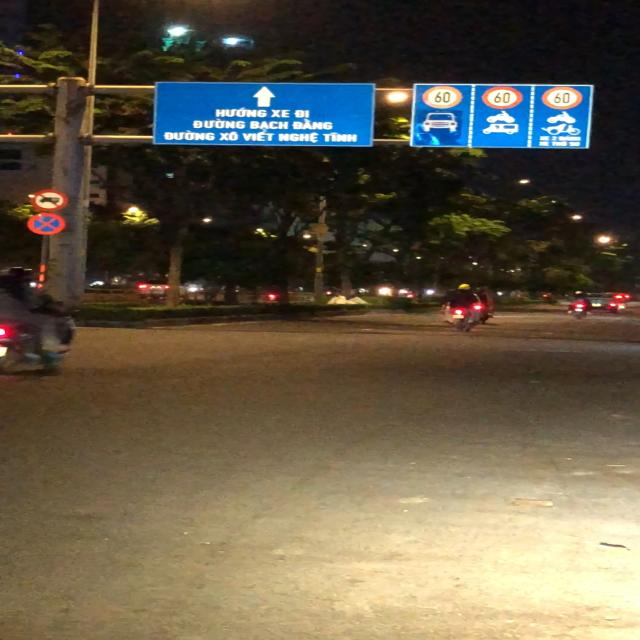Bien bao cam dung xe va do xe: (27, 211, 70, 236)
Bien bao cam xe oto tai: (31, 189, 68, 211)
Bien bao toc do toi da cho phep: (540, 86, 590, 112), (477, 86, 528, 110), (420, 84, 466, 110)
